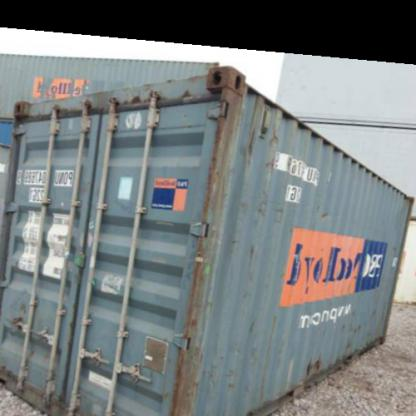Damage: (240, 90, 282, 174), (336, 309, 364, 358), (249, 184, 270, 229), (170, 77, 209, 101), (316, 198, 338, 228), (303, 353, 327, 380), (242, 236, 264, 265), (123, 85, 149, 108), (273, 198, 287, 236), (244, 311, 260, 338)
